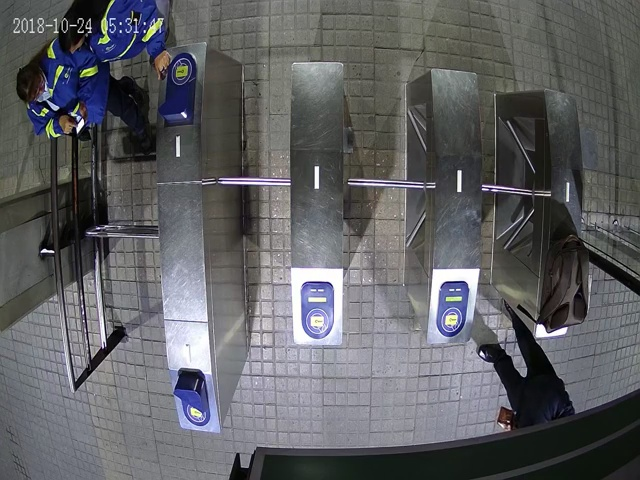Chaleco_azul: (15, 34, 154, 141), (57, 1, 172, 78)
